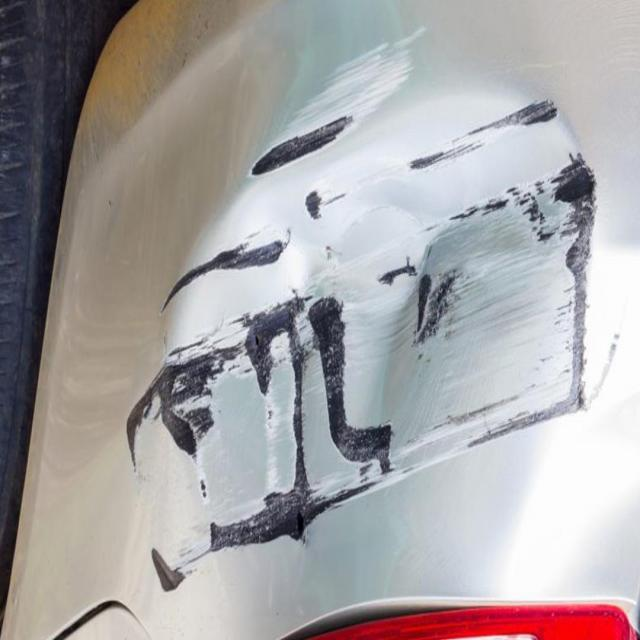dent: (109, 46, 606, 622)
